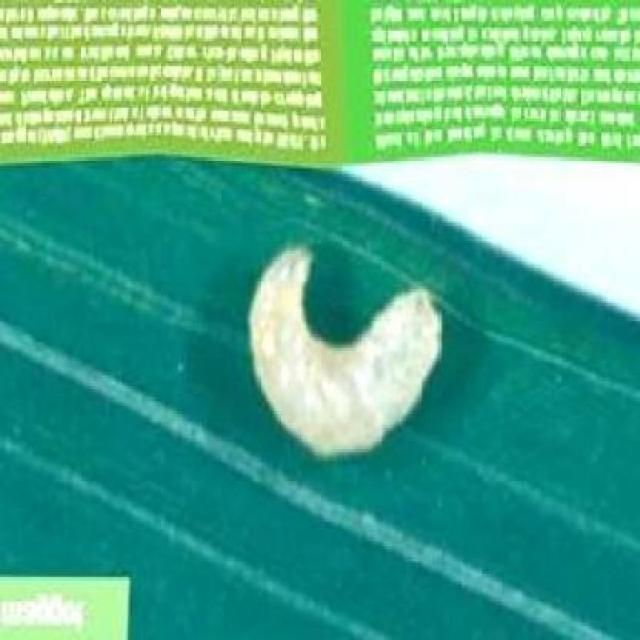whorl-maggot: (237, 240, 449, 466)
